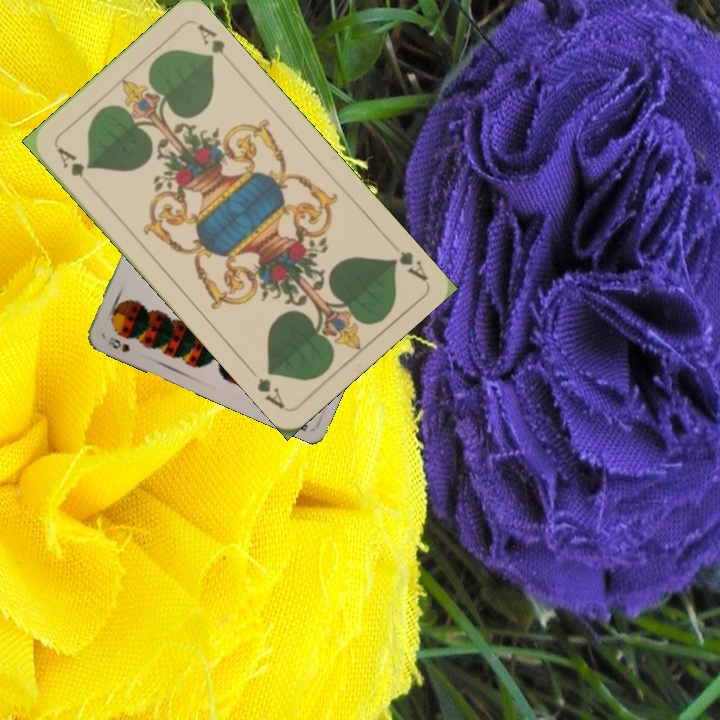GA: (53, 143, 96, 192), (386, 246, 430, 283)
S8: (104, 333, 133, 355)
